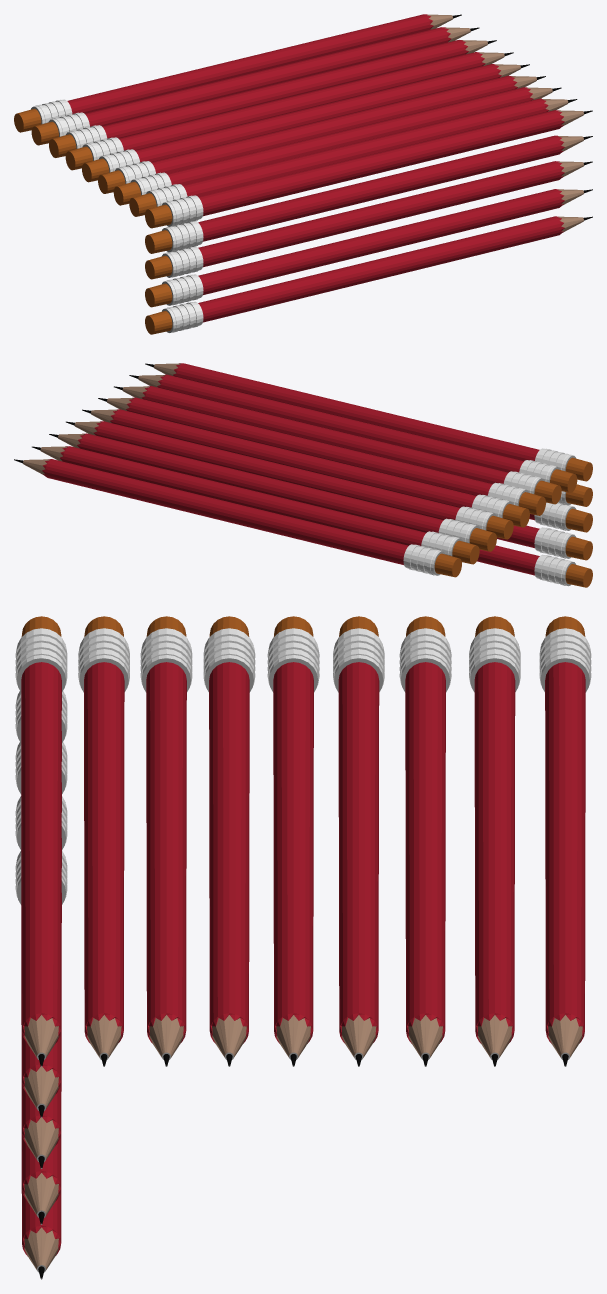
The model's file is LV1_PencilCage.fbx.
3 views of the same model, one above another, from view 1: azimuth 30°, elevation 25°; view 2: azimuth 150°, elevation 25°; view 3: azimuth 270°, elevation 25° (orthographic). The views are drawn at different scales.
Parts seen in each view (by area): view 1: LV1_Pencil:Pencil1; view 2: LV1_Pencil:Pencil1; view 3: LV1_Pencil:Pencil1.
Part boxes in pixels (box(x1,y1,x2,y2)): LV1_Pencil:Pencil1: box(14, 14, 592, 334); LV1_Pencil:Pencil1: box(14, 363, 592, 587); LV1_Pencil:Pencil1: box(15, 616, 591, 1279).
Size of the model in its own units: 1.07 by 0.2994 by 0.6021.
